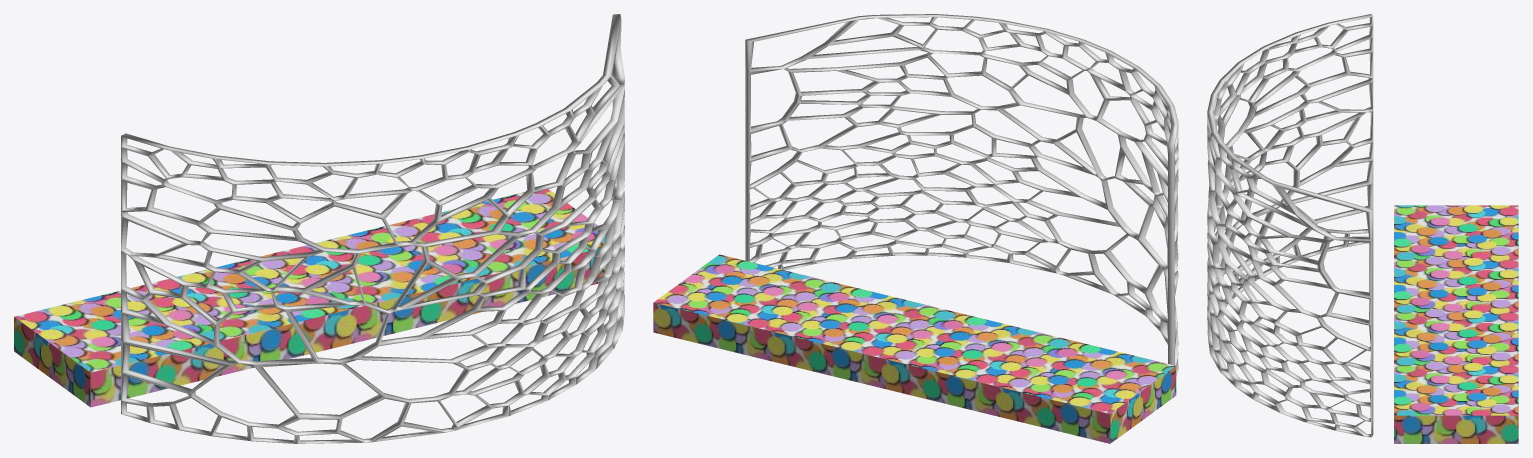
The picture shows the model from 3 angles, left to right: view 1: azimuth 30°, elevation 25°; view 2: azimuth 150°, elevation 25°; view 3: azimuth 270°, elevation 25°; orthographic projection. The views are drawn at different scales.
Visible parts, largest first — view 1: [0]; view 2: [0]; view 3: [0].
Boxes of the visible parts, box(x1,y1,x2,y2) form: [0]: box(14, 14, 624, 443); [0]: box(653, 14, 1178, 443); [0]: box(1207, 14, 1518, 443).
Bounding box in the file's own units: 4 × 2 × 2.5.
1 material, 1 textured.
